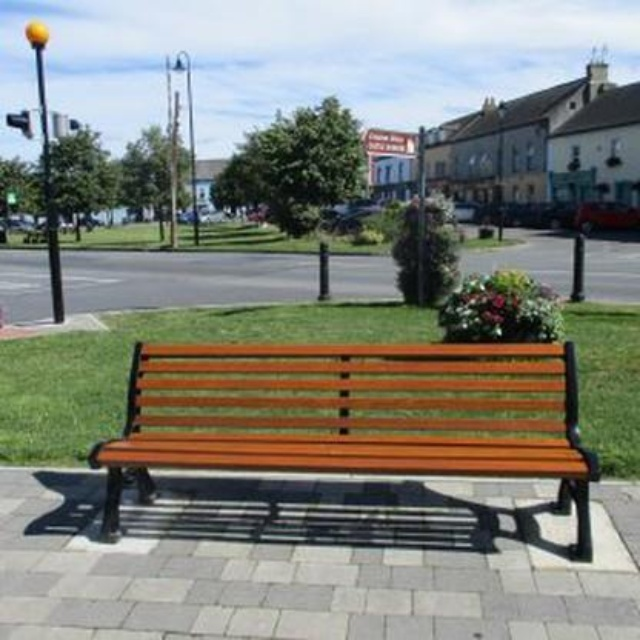obstacle: (80, 323, 609, 574)
